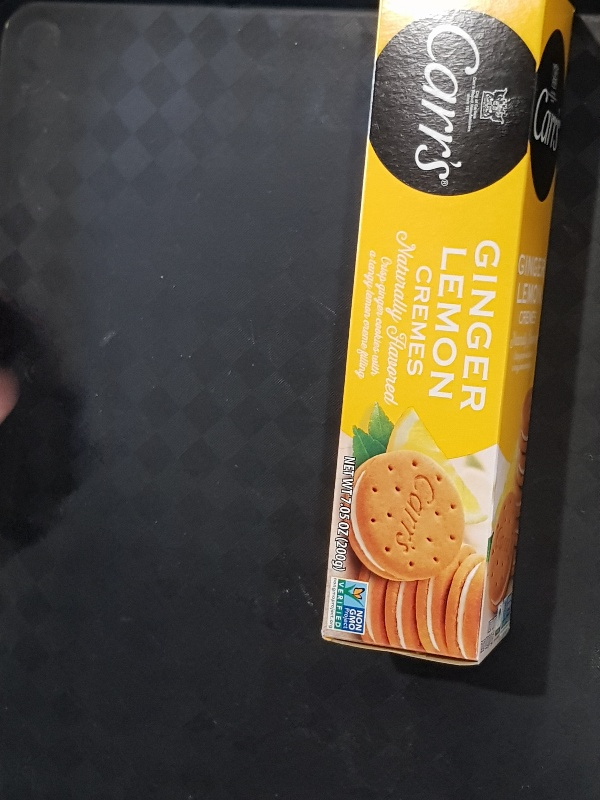Carr's Ginger Lemon Cremes: (318, 2, 575, 669)
